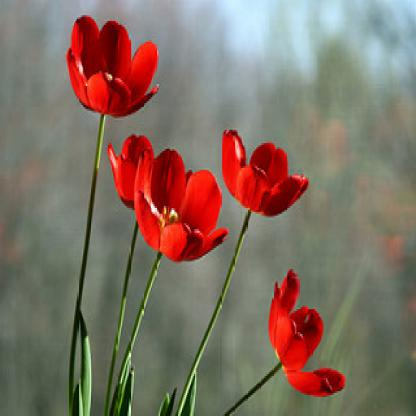TULIP: (59, 12, 343, 400)
